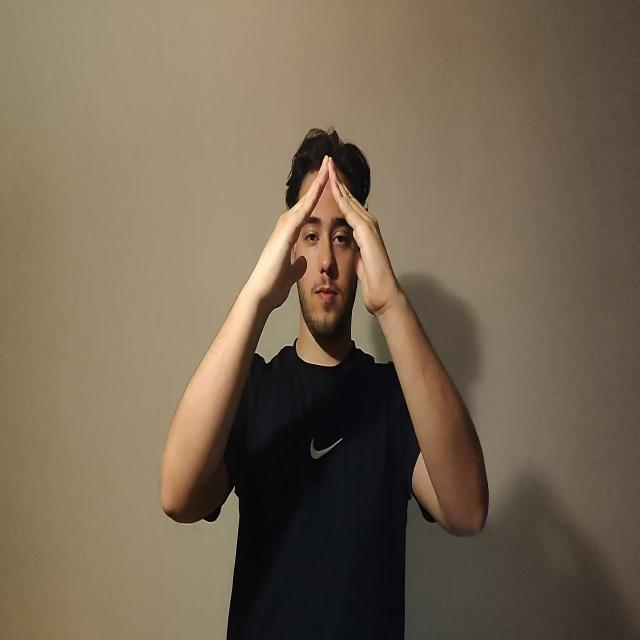house: (252, 160, 390, 309)
